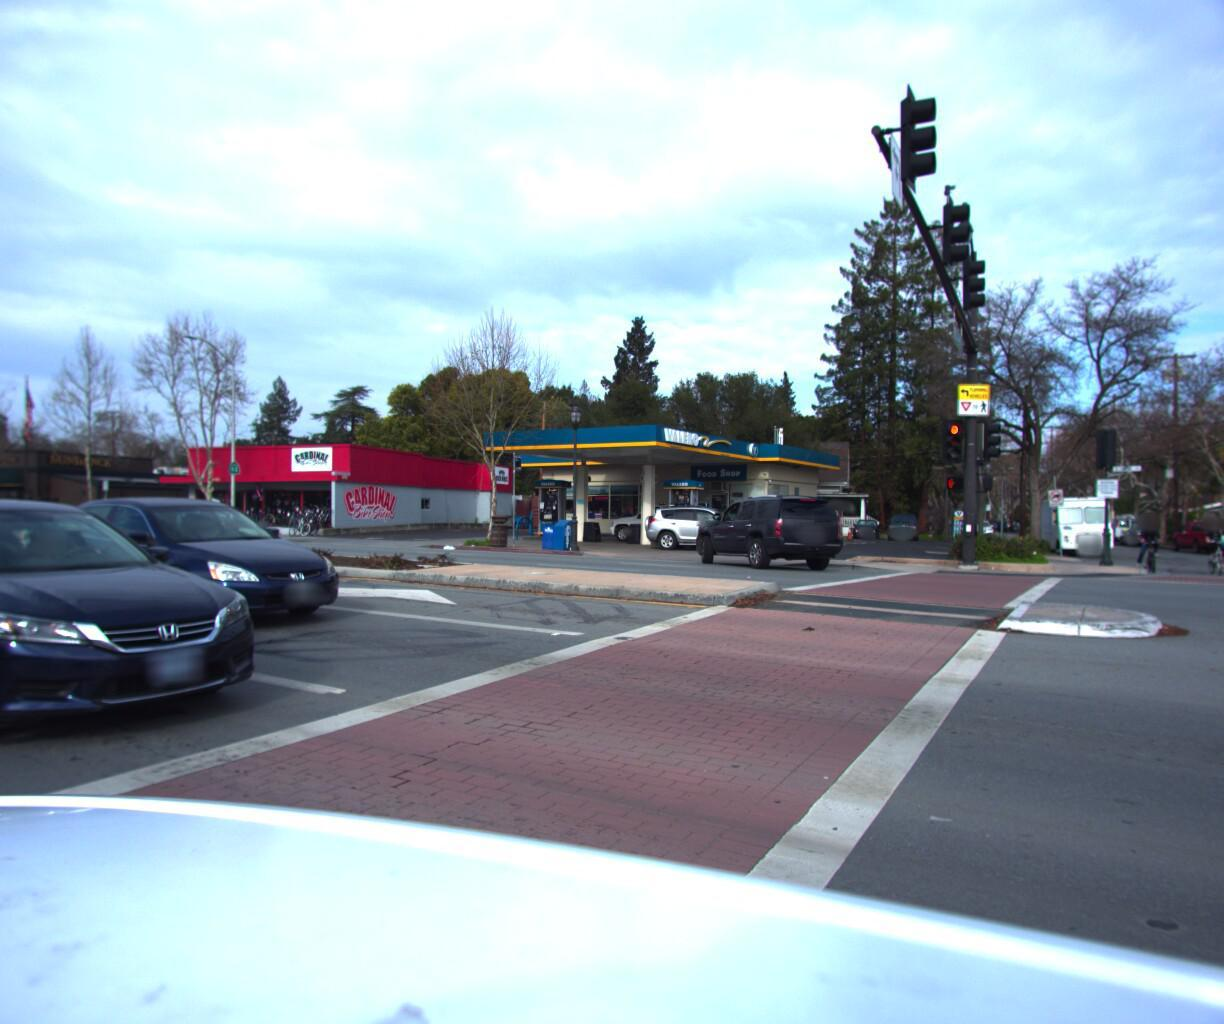bicycle: (1129, 513, 1168, 567), (1194, 511, 1224, 573), (287, 508, 327, 532), (293, 508, 333, 532)
car: (0, 493, 289, 772), (18, 487, 364, 629), (689, 491, 850, 570), (633, 499, 771, 548), (599, 496, 720, 539), (128, 498, 240, 534), (1167, 513, 1224, 549), (1096, 507, 1146, 539), (888, 513, 920, 538), (852, 514, 881, 536), (1210, 521, 1224, 554)
truck: (1029, 490, 1122, 555)
